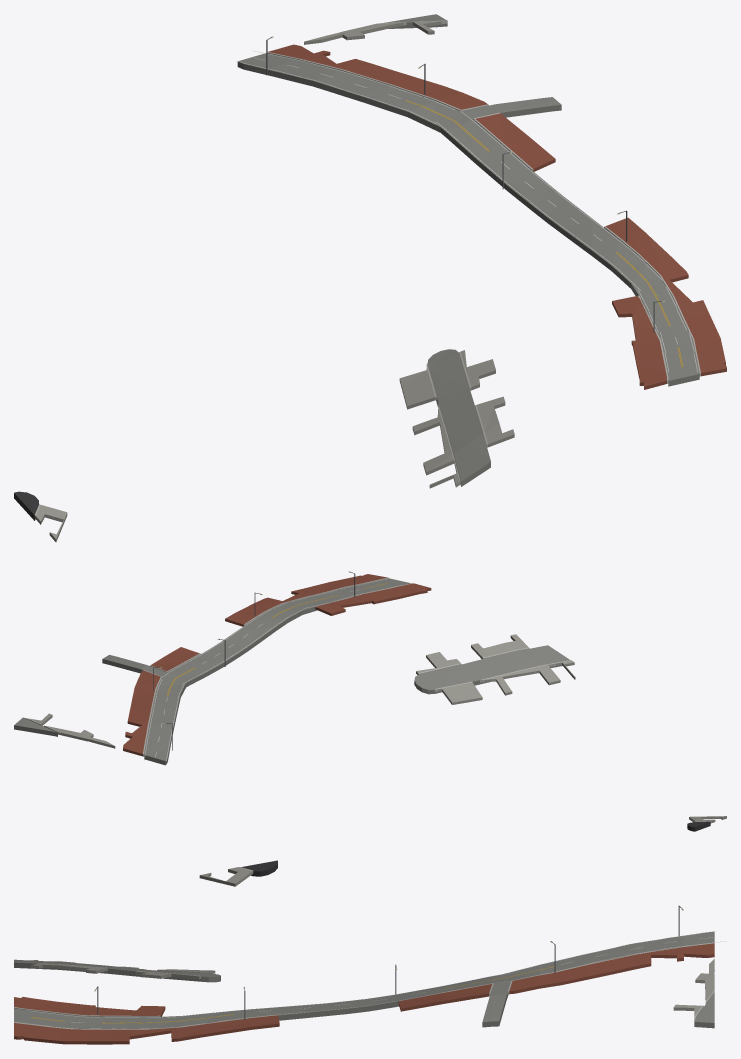
Rendered from 18-218883-118971.7bbed152.glb.
3 views of the same model, one above another, from view 1: azimuth 30°, elevation 25°; view 2: azimuth 150°, elevation 25°; view 3: azimuth 270°, elevation 25° (orthographic). The views are drawn at different scales.
Bounding box in the file's own units: 147 × 43.03 × 148.
